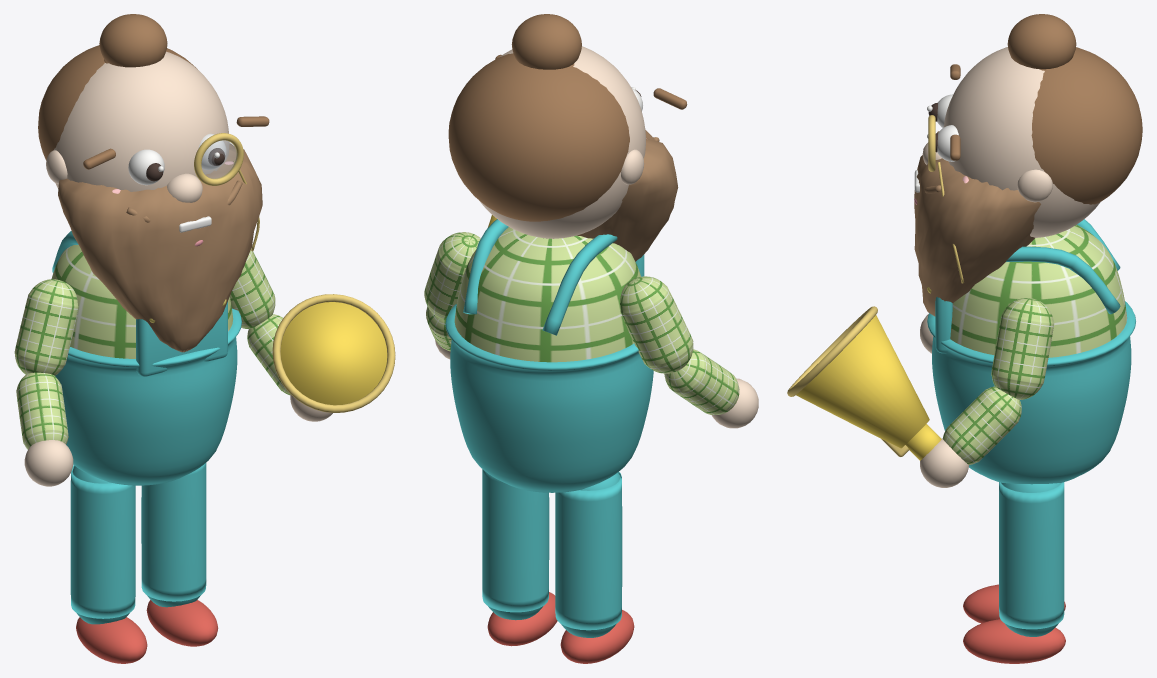
Rendered from chesspaa.glb.
3 views of the same model, side by side, from view 1: azimuth 30°, elevation 25°; view 2: azimuth 150°, elevation 25°; view 3: azimuth 270°, elevation 25° (orthographic). The views are drawn at different scales.
Parts seen in each view (by area): view 1: beard, overalls, head_mesh, legL_mesh, mega_bell, legR_mesh, shirt, upperarmL, hair_cap, forearmL_mesh, mega_rim, bun (+10 smaller); view 2: overalls, hair_cap, shirt, legL_mesh, legR_mesh, head_mesh, beard, upperarmL, bun, forearmL_mesh, upperarmR, shoeL (+6 smaller); view 3: overalls, hair_cap, shirt, beard, head_mesh, legR_mesh, mega_bell, upperarmR, forearmR_mesh, bun, shoeR, strap1 (+6 smaller).
Part boxes in pixels (left/top/right/bottom): beard: left=58, top=143, right=262, bottom=352; overalls: left=55, top=308, right=241, bottom=485; head_mesh: left=54, top=51, right=229, bottom=191; legL_mesh: left=70, top=465, right=135, bottom=624; mega_bell: left=280, top=302, right=387, bottom=405; legR_mesh: left=141, top=463, right=206, bottom=607; shirt: left=51, top=245, right=233, bottom=358; upperarmL: left=14, top=279, right=78, bottom=375; hair_cap: left=38, top=45, right=197, bottom=160; forearmL_mesh: left=16, top=372, right=68, bottom=449; mega_rim: left=272, top=294, right=395, bottom=412; bun: left=99, top=14, right=167, bottom=67; overalls: left=445, top=304, right=653, bottom=492; hair_cap: left=448, top=53, right=629, bottom=221; shirt: left=454, top=227, right=640, bottom=362; legL_mesh: left=555, top=472, right=622, bottom=637; legR_mesh: left=482, top=469, right=549, bottom=620; head_mesh: left=479, top=46, right=645, bottom=238; beard: left=577, top=130, right=678, bottom=261; upperarmL: left=620, top=276, right=693, bottom=373; bun: left=511, top=14, right=581, bottom=69; forearmL_mesh: left=664, top=349, right=739, bottom=414; upperarmR: left=424, top=232, right=480, bottom=320; shoeL: left=560, top=610, right=634, bottom=663; overalls: left=927, top=301, right=1135, bottom=484; hair_cap: left=1031, top=47, right=1142, bottom=204; shirt: left=950, top=224, right=1127, bottom=357; beard: left=914, top=133, right=1040, bottom=316; head_mesh: left=943, top=47, right=1100, bottom=237; legR_mesh: left=999, top=482, right=1064, bottom=636; mega_bell: left=796, top=315, right=929, bottom=448; upperarmR: left=991, top=298, right=1053, bottom=399; forearmR_mesh: left=942, top=386, right=1021, bottom=464; bun: left=1007, top=14, right=1076, bottom=69; shoeR: left=963, top=619, right=1065, bottom=663; strap1: left=1006, top=246, right=1120, bottom=314.
Bounding box in the file's own units: 1.04 × 2.01 × 1.03.
Materials: 15 (1 with a texture image).
